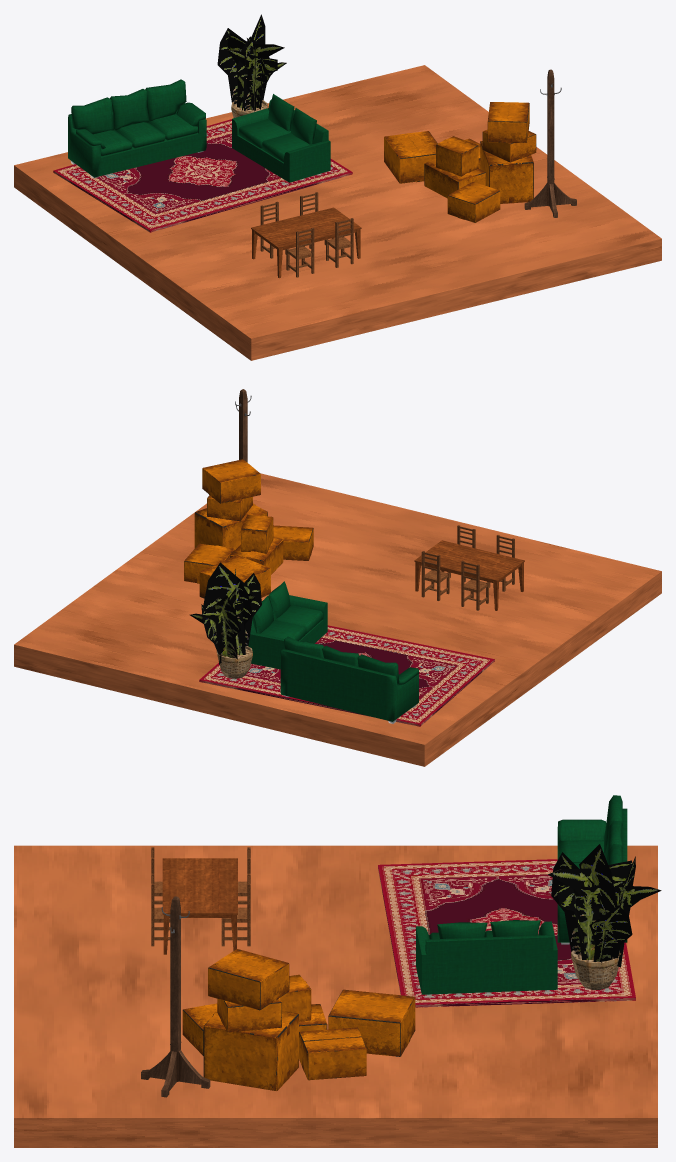
File: salon.glb
The picture shows the model from 3 angles, top to bottom: view 1: azimuth 30°, elevation 25°; view 2: azimuth 150°, elevation 25°; view 3: azimuth 270°, elevation 25°; orthographic projection. The views are drawn at different scales.
Visible parts, largest first — view 1: sol, Cube_Material_0, Armchair_11, Armchair_04, Plane.002, Table_13.001, carton ferme fragile moyen.001, Grand carton ferme, Object_2, carton ferme fragile moyen.003, carton ferme fragile moyen, Grand carton ferme.001 (+4 smaller); view 2: sol, Cube_Material_0, Armchair_11, Plane.002, Armchair_04, Table_13.001, carton ferme fragile moyen.003, Grand carton ferme, carton ferme fragile moyen.001, carton ferme fragile moyen, Grand carton ferme.001, carton moyen ferme (+5 smaller); view 3: sol, Cube_Material_0, Armchair_04, Plane.002, Grand carton ferme, Table_13.001, carton ferme fragile moyen.001, carton ferme fragile moyen.003, Armchair_11, carton moyen ferme, Object_2, carton ferme fragile moyen.002 (+3 smaller).
Boxes of the visible parts, x1,y1,x2,y2 form: sol: (14,65,661,360); Cube_Material_0: (53,119,352,232); Armchair_11: (68,79,206,178); Armchair_04: (232,94,330,182); Plane.002: (217,14,286,117); Table_13.001: (251,207,361,278); carton ferme fragile moyen.001: (384,131,437,183); Grand carton ferme: (480,141,533,203); Object_2: (524,69,576,217); carton ferme fragile moyen.003: (487,102,529,142); carton ferme fragile moyen: (447,182,500,222); Grand carton ferme.001: (436,136,478,176); sol: (14,473,661,766); Cube_Material_0: (199,625,494,726); Armchair_11: (280,636,418,723); Plane.002: (189,562,261,678); Armchair_04: (248,581,327,669); Table_13.001: (414,540,524,610); carton ferme fragile moyen.003: (202,459,260,503); Grand carton ferme: (194,503,267,550); carton ferme fragile moyen.001: (199,555,270,598); carton ferme fragile moyen: (273,525,313,560); Grand carton ferme.001: (241,515,273,553); carton moyen ferme: (184,543,234,583); sol: (14,845,657,1147); Cube_Material_0: (378,859,635,1007); Armchair_04: (416,920,557,994); Plane.002: (547,844,661,989); Grand carton ferme: (203,1011,298,1090); Table_13.001: (162,858,237,954); carton ferme fragile moyen.001: (328,989,415,1056); carton ferme fragile moyen.003: (208,949,289,1010); Armchair_11: (557,795,627,944); carton moyen ferme: (299,1027,366,1080); Object_2: (141,896,210,1097); carton ferme fragile moyen.002: (217,998,281,1032).
Size of the model in its own units: 11.17 by 4.15 by 11.24.
Materials: 18 (17 with a texture image).
